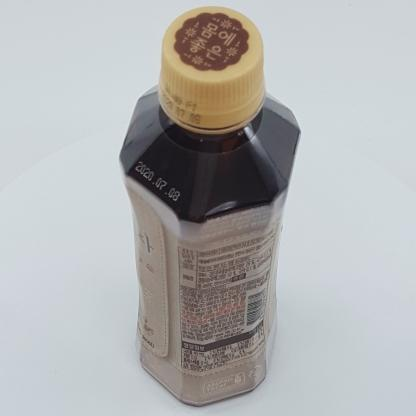----------350ML: (118, 6, 301, 407)
